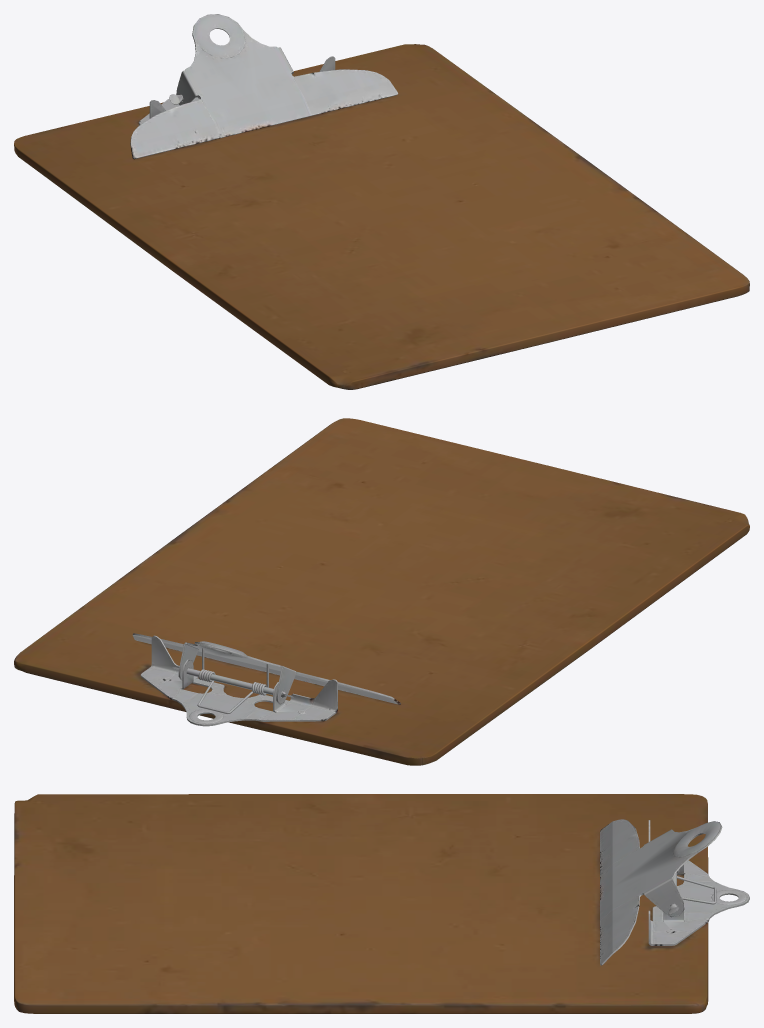
File: clipboard.glb
The picture shows the model from 3 angles, top to bottom: view 1: azimuth 30°, elevation 25°; view 2: azimuth 150°, elevation 25°; view 3: azimuth 270°, elevation 25°; orthographic projection. The views are drawn at different scales.
Visible parts, largest first — view 1: clipboard; view 2: clipboard; view 3: clipboard.
Boxes of the visible parts, bbox=[...] form: clipboard: bbox=[14, 14, 749, 389]; clipboard: bbox=[14, 418, 749, 765]; clipboard: bbox=[14, 794, 749, 1013].
Size of the model in its own units: 0.2286 by 0.042 by 0.3366.
1 material, 1 textured.
